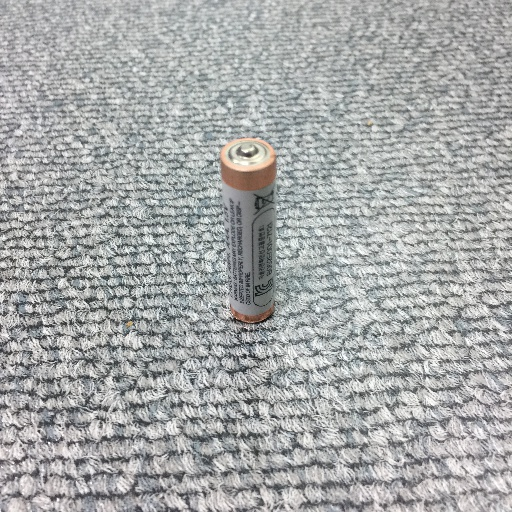Battery_0: (216, 130, 285, 330)
